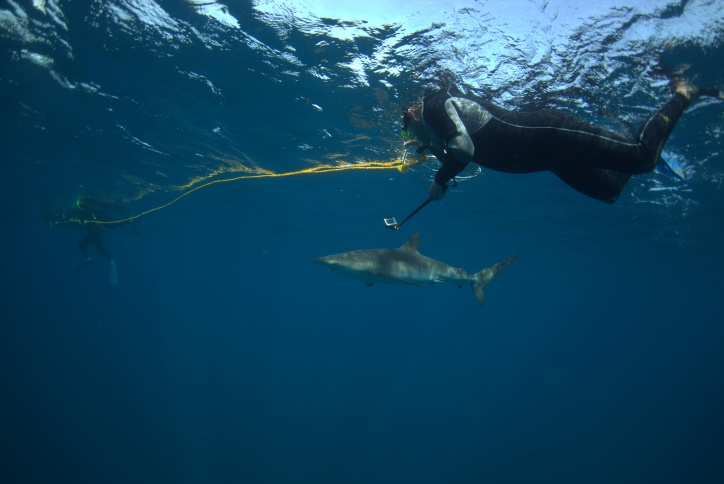Sedoso: (284, 212, 531, 317)
